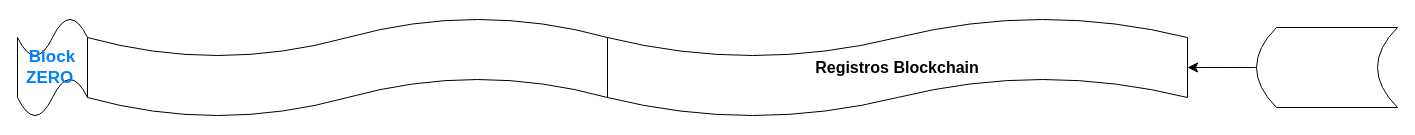
This 1415x135 diagram has some shape labels left out. Each missing label, with the box of its shape:
Data Storange: (1256, 26, 1398, 108)
TVM (Turing Virtual Machine): (86, 16, 608, 118)
